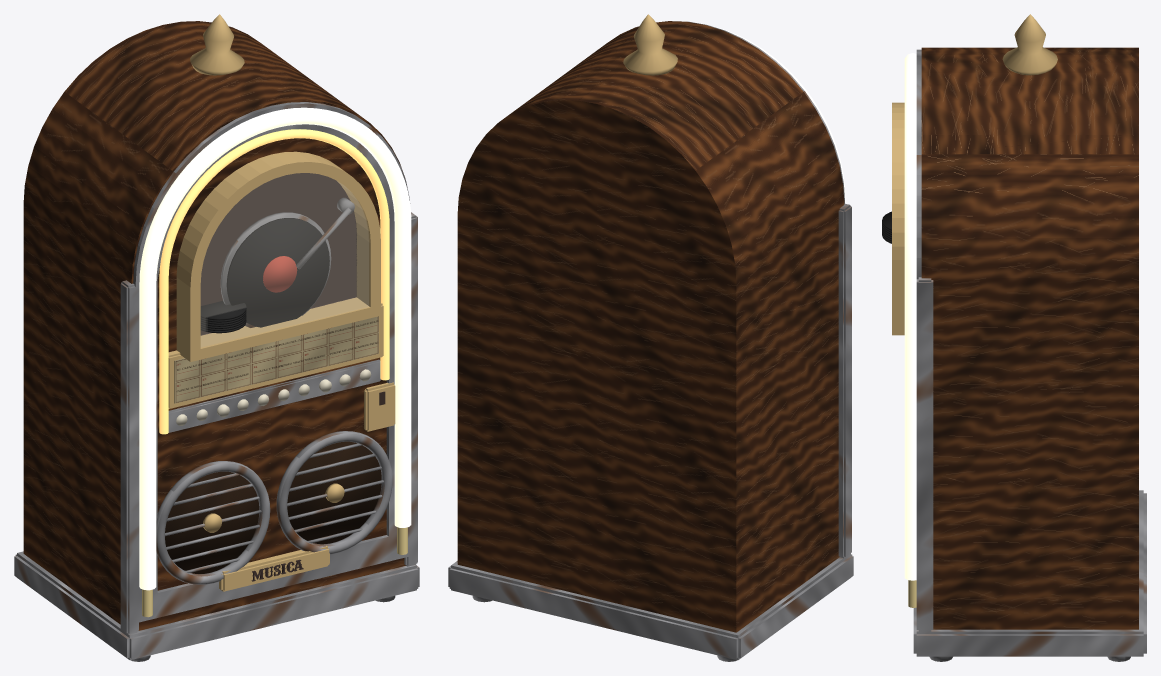
The model's file is Rocola.fbx.
3 renders of one model, left to right at view 1: azimuth 30°, elevation 25°; view 2: azimuth 150°, elevation 25°; view 3: azimuth 270°, elevation 25°, orthographic.
Parts seen in each view (by area): view 1: Cuerpo, Vidrio_Ventana, Luz_Arco_Ambar, Marco_Ventana, Marco_Arco, Zocalo, Fondo_Ventana, Tarjetas_Canciones, Disco, Franja_-1, Luz_Arco_Roja, Parlante_1_Tela (+15 smaller); view 2: Cuerpo, Zocalo, Franja_-1, Remate_Laton; view 3: Cuerpo, Zocalo, Luz_Arco_Ambar, Franja_1, Marco_Ventana, Remate_Laton, Marco_Arco.
Part boxes in pixels (x1=…): Cuerpo: x1=23, y1=21, x2=405, y2=630; Vidrio_Ventana: x1=201, y1=173, x2=368, y2=346; Luz_Arco_Ambar: x1=139, y1=107, x2=411, y2=590; Marco_Ventana: x1=176, y1=151, x2=380, y2=361; Marco_Arco: x1=133, y1=102, x2=410, y2=622; Zocalo: x1=14, y1=551, x2=419, y2=660; Fondo_Ventana: x1=200, y1=173, x2=356, y2=335; Tarjetas_Canciones: x1=174, y1=316, x2=378, y2=403; Disco: x1=226, y1=218, x2=329, y2=327; Franja_-1: x1=120, y1=280, x2=138, y2=634; Luz_Arco_Roja: x1=159, y1=129, x2=389, y2=434; Parlante_1_Tela: x1=287, y1=441, x2=381, y2=544; Cuerpo: x1=457, y1=21, x2=844, y2=632; Zocalo: x1=448, y1=553, x2=853, y2=660; Franja_-1: x1=838, y1=203, x2=851, y2=558; Remate_Laton: x1=623, y1=14, x2=677, y2=75; Cuerpo: x1=921, y1=47, x2=1138, y2=629; Zocalo: x1=913, y1=490, x2=1146, y2=656; Luz_Arco_Ambar: x1=904, y1=53, x2=916, y2=580; Franja_1: x1=916, y1=277, x2=933, y2=631; Marco_Ventana: x1=892, y1=102, x2=904, y2=335; Remate_Laton: x1=1002, y1=14, x2=1057, y2=75; Marco_Arco: x1=916, y1=49, x2=921, y2=279.
Size of the model in its own units: 1.12 by 2.12 by 0.871.
